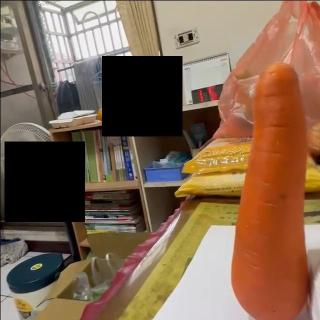carrot: (231, 62, 307, 320)
